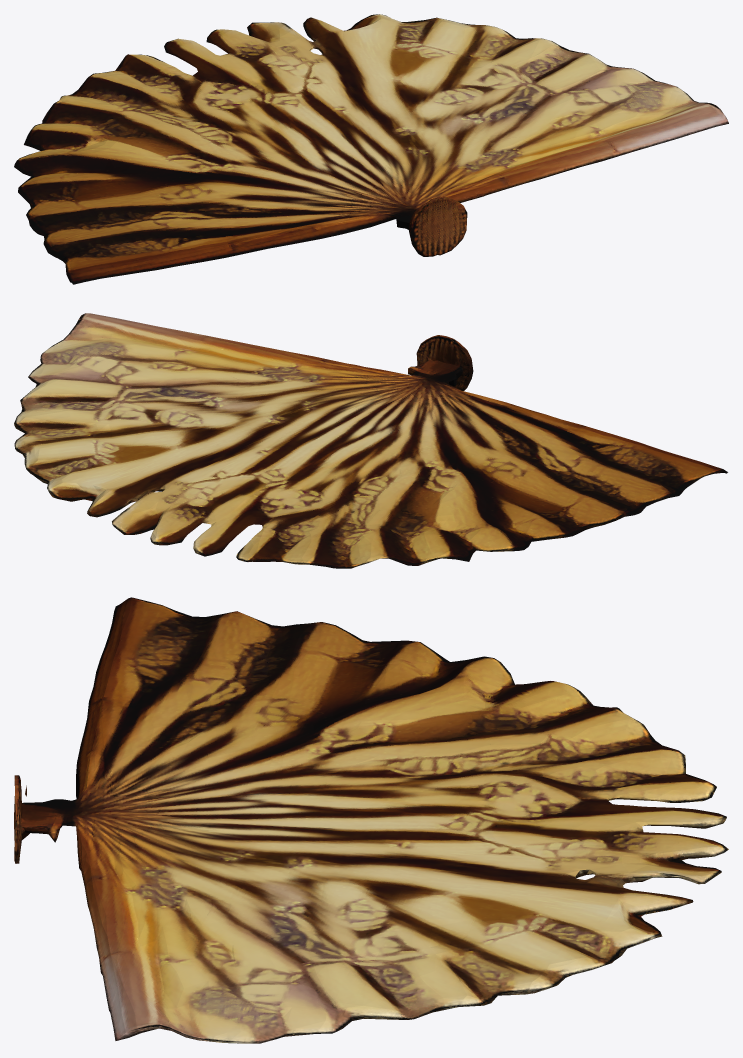
Rendered from wooden-folding-fan-rustic.jpeg.glb.
The picture shows the model from 3 angles, top to bottom: view 1: azimuth 30°, elevation 25°; view 2: azimuth 150°, elevation 25°; view 3: azimuth 270°, elevation 25°; orthographic projection. The views are drawn at different scales.
Visible parts, largest first — view 1: world; view 2: world; view 3: world.
Part boxes in pixels (x1=…): world: x1=14, y1=14, x2=728, y2=284; world: x1=14, y1=313, x2=727, y2=568; world: x1=14, y1=597, x2=728, y2=1043.
Bounding box in the file's own units: 1 × 0.0839 × 0.692.
1 material, 1 textured.
